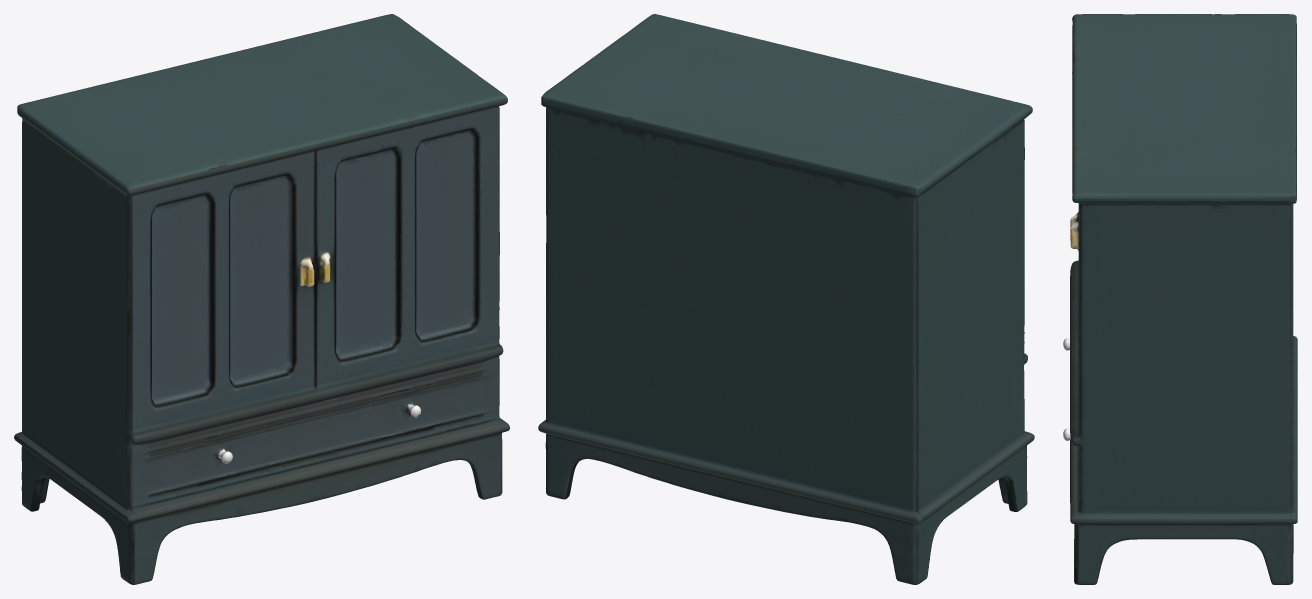
Rendered from cabinet__cabinet#5.glb.
3 renders of one model, left to right at view 1: azimuth 30°, elevation 25°; view 2: azimuth 150°, elevation 25°; view 3: azimuth 270°, elevation 25°, orthographic. The views are drawn at different scales.
Visible parts, largest first — view 1: tmpaabmn8s1.ply; view 2: tmpaabmn8s1.ply; view 3: tmpaabmn8s1.ply.
Boxes of the visible parts, x1,y1,x2,y2 form: tmpaabmn8s1.ply: [14, 14, 509, 584]; tmpaabmn8s1.ply: [538, 14, 1034, 584]; tmpaabmn8s1.ply: [1063, 14, 1297, 584].
Size of the model in its own units: 1.99 by 1.99 by 1.08.
Materials: 1 (1 with a texture image).
